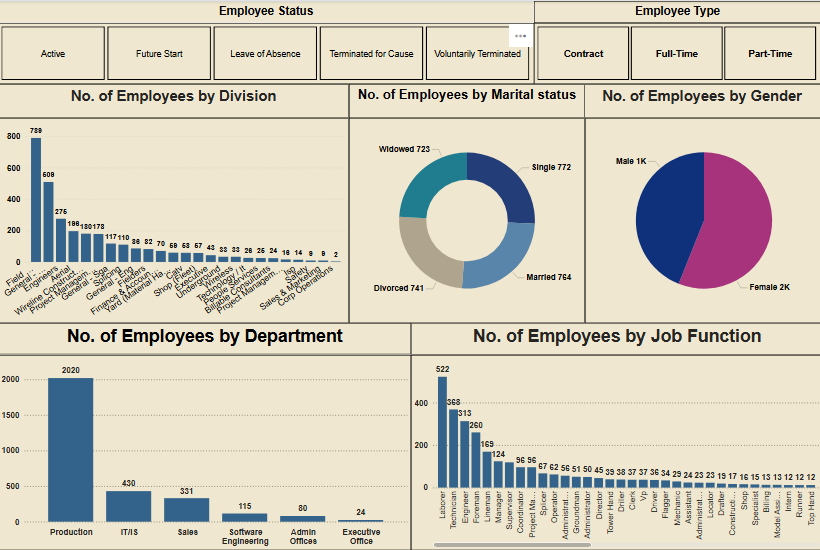

The dashboard page shown, as its layout file describes it:
{"tool":"powerbi","page":{"name":"Employee Data","canvas":[1500,1000],"ordinal":0},"visuals":[{"type":"columnChart","fields":{"Y":["employee_data.No.of employees"],"Category":["employee_data.JobFunction"]},"box":[751,644.9,749,355.1],"z":0},{"type":"clusteredColumnChart","fields":{"Y":["employee_data.No.of employees"],"Category":["employee_data.DepartmentType"]},"box":[0,644.9,751,355.1],"z":1000},{"type":"textbox","box":[0,587.8,751,57.1],"z":2000},{"type":"textbox","box":[750.9,587.3,749.1,58.2],"z":3000},{"type":"clusteredColumnChart","fields":{"Y":["employee_data.No.of employees"],"Category":["employee_data.Division"]},"box":[0,214.5,638.2,372.7],"z":4000},{"type":"pieChart","fields":{"Y":["employee_data.No.of employees"],"Category":["employee_data.GenderCode"]},"box":[1067.3,214.5,432.7,372.7],"z":5000},{"type":"donutChart","fields":{"Category":["employee_data.MaritalDesc"],"Y":["employee_data.No.of employees"]},"box":[638.2,214.5,429.1,372.7],"z":6000},{"type":"advancedSlicerVisual","fields":{"Values":["employee_data.EmployeeType"]},"box":[974.5,41.8,521.8,110.9],"z":7000},{"type":"advancedSlicerVisual","fields":{"Values":["employee_data.EmployeeStatus"]},"box":[0,41.8,974.5,110.9],"z":8000},{"type":"textbox","box":[1063.6,152.7,432.7,61.8],"z":9000},{"type":"textbox","box":[638.2,152.7,429.1,61.8],"z":10000},{"type":"textbox","box":[0,152.7,638.2,61.8],"z":11000},{"type":"textbox","box":[0,1.8,974.5,40],"z":12000},{"type":"textbox","box":[974.5,1.8,521.8,40],"z":13000}]}

Visuals, with their boxes in screenshot pixels (x1, y1, x2, y2), scaled from the page's 1500x1000 canvas onto the 820x550 screenshot:
columnChart - employee_data.No.of employees x employee_data.JobFunction: box(411, 355, 819, 549)
clusteredColumnChart - employee_data.No.of employees x employee_data.DepartmentType: box(0, 355, 411, 549)
textbox: box(0, 323, 411, 355)
textbox: box(410, 323, 819, 355)
clusteredColumnChart - employee_data.No.of employees x employee_data.Division: box(0, 118, 349, 323)
pieChart - employee_data.No.of employees x employee_data.GenderCode: box(583, 118, 819, 323)
donutChart - employee_data.MaritalDesc x employee_data.No.of employees: box(349, 118, 583, 323)
advancedSlicerVisual - employee_data.EmployeeType: box(533, 23, 818, 84)
advancedSlicerVisual - employee_data.EmployeeStatus: box(0, 23, 533, 84)
textbox: box(581, 84, 818, 118)
textbox: box(349, 84, 583, 118)
textbox: box(0, 84, 349, 118)
textbox: box(0, 1, 533, 23)
textbox: box(533, 1, 818, 23)
